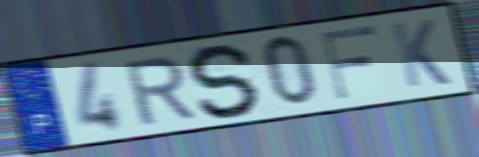0: (260, 32, 322, 112)
4: (72, 57, 125, 137)
F: (319, 23, 379, 103)
K: (387, 17, 454, 90)
R: (121, 53, 199, 128)
S: (185, 41, 264, 120)
